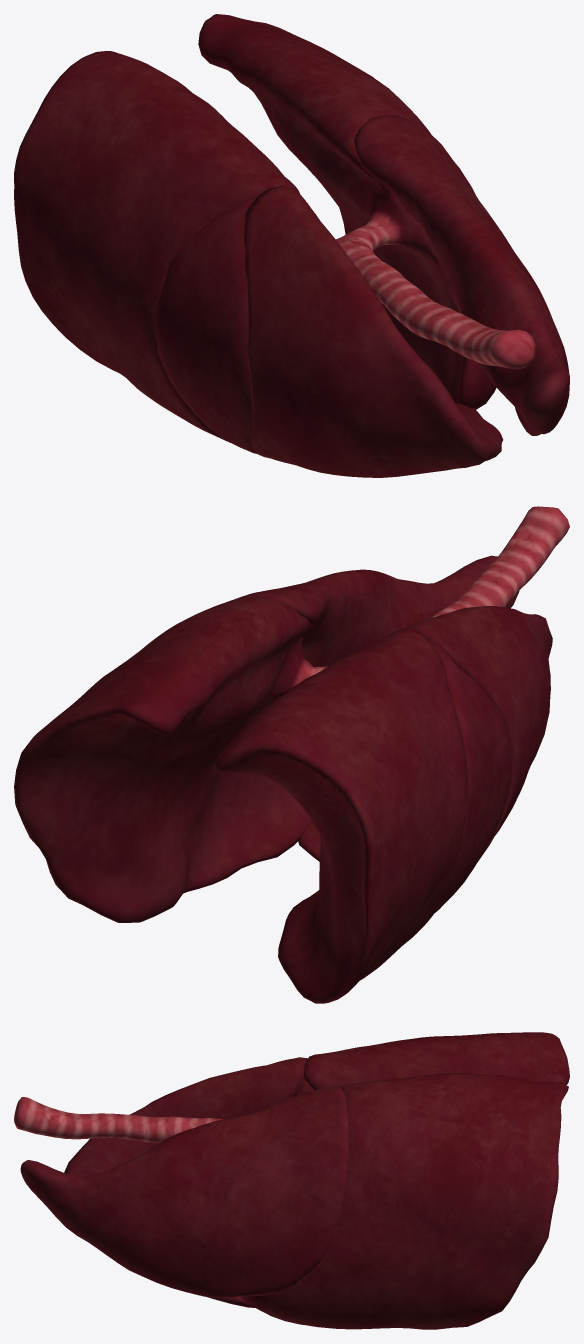
Rendered from Lungs.glb.
3 views of the same model, one above another, from view 1: azimuth 30°, elevation 25°; view 2: azimuth 150°, elevation 25°; view 3: azimuth 270°, elevation 25° (orthographic). The views are drawn at different scales.
Visible parts, largest first — view 1: LungFull_low:Back_low, LungFull_low:Middlee_low, LungFull_low:Front_low, LungFull_low:Right_low; view 2: LungFull_low:Middlee_low, LungFull_low:Back_low, LungFull_low:Front_low, LungFull_low:Right_low; view 3: LungFull_low:Middlee_low, LungFull_low:Right_low, LungFull_low:Back_low, LungFull_low:Front_low.
Boxes of the visible parts, bbox=[...] form: LungFull_low:Back_low: bbox=[14, 51, 299, 442]; LungFull_low:Middlee_low: bbox=[155, 14, 535, 453]; LungFull_low:Front_low: bbox=[243, 185, 503, 477]; LungFull_low:Right_low: bbox=[354, 115, 569, 435]; LungFull_low:Middlee_low: bbox=[14, 506, 569, 922]; LungFull_low:Back_low: bbox=[214, 627, 468, 1003]; LungFull_low:Front_low: bbox=[298, 606, 552, 861]; LungFull_low:Right_low: bbox=[229, 555, 519, 667]; LungFull_low:Middlee_low: bbox=[14, 1058, 568, 1329]; LungFull_low:Right_low: bbox=[20, 1086, 348, 1298]; LungFull_low:Back_low: bbox=[304, 1032, 569, 1090]; LungFull_low:Front_low: bbox=[64, 1057, 305, 1307].
Size of the model in its own units: 112 by 98.53 by 201.
1 material, 1 textured.
